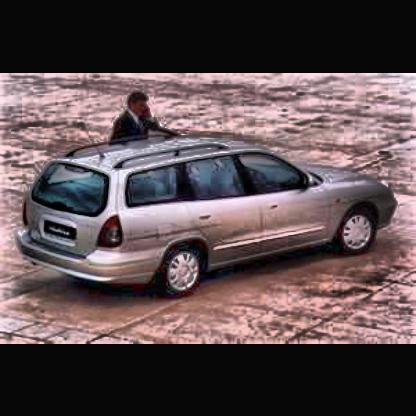Daewoo Nubira Wagon 2002: (9, 126, 401, 299)
